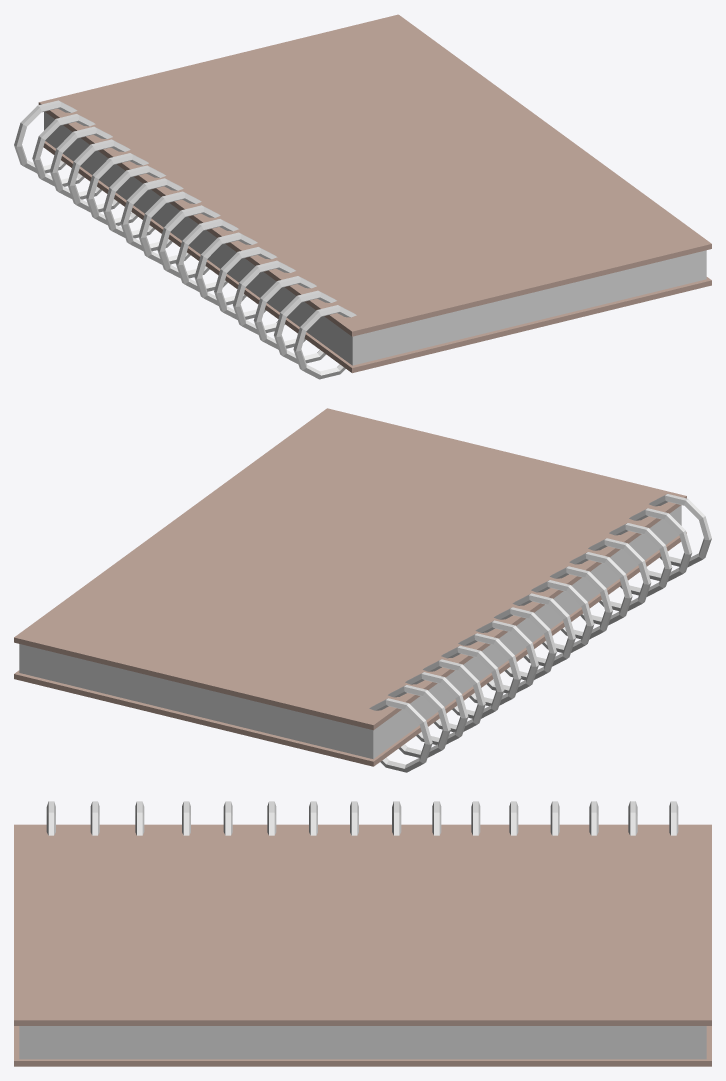
The model's file is book.fbx.
3 renders of one model, top to bottom at view 1: azimuth 30°, elevation 25°; view 2: azimuth 150°, elevation 25°; view 3: azimuth 270°, elevation 25°, orthographic. The views are drawn at different scales.
Visible parts, largest first — view 1: pCube2, pCube1, pCube3, pTorus16, pTorus15, pTorus14, pTorus13, pTorus3, pTorus6, pTorus9, pTorus10, pTorus1 (+7 smaller); view 2: pCube2, pCube1, pCube3, pTorus9, pTorus8, pTorus14, pTorus10, pTorus12, pTorus3, pTorus7, pTorus1, pTorus15 (+7 smaller); view 3: pCube2, pCube1, pCube3.
Part boxes in pixels (x1=…): pCube2: x1=38, y1=14, x2=711, y2=336; pCube1: x1=44, y1=111, x2=706, y2=365; pCube3: x1=43, y1=141, x2=711, y2=373; pTorus16: x1=293, y1=305, x2=356, y2=379; pTorus15: x1=274, y1=290, x2=336, y2=363; pTorus14: x1=253, y1=276, x2=316, y2=349; pTorus13: x1=233, y1=260, x2=295, y2=334; pTorus3: x1=120, y1=178, x2=183, y2=251; pTorus6: x1=67, y1=139, x2=130, y2=212; pTorus9: x1=14, y1=100, x2=77, y2=173; pTorus10: x1=175, y1=219, x2=238, y2=291; pTorus1: x1=157, y1=205, x2=220, y2=278; pCube2: x1=14, y1=408, x2=686, y2=730; pCube1: x1=19, y1=505, x2=681, y2=758; pCube3: x1=14, y1=532, x2=686, y2=766; pTorus9: x1=369, y1=698, x2=432, y2=772; pTorus8: x1=388, y1=685, x2=450, y2=757; pTorus14: x1=609, y1=523, x2=672, y2=596; pTorus10: x1=531, y1=580, x2=594, y2=652; pTorus12: x1=569, y1=552, x2=632, y2=625; pTorus3: x1=475, y1=620, x2=538, y2=693; pTorus7: x1=405, y1=672, x2=468, y2=744; pTorus1: x1=512, y1=593, x2=575, y2=666; pTorus15: x1=629, y1=508, x2=692, y2=581; pCube2: x1=14, y1=824, x2=711, y2=1025; pCube1: x1=19, y1=1026, x2=706, y2=1059; pCube3: x1=14, y1=1026, x2=711, y2=1066.
Size of the model in its own units: 11.69 by 1.89 by 15.85.
